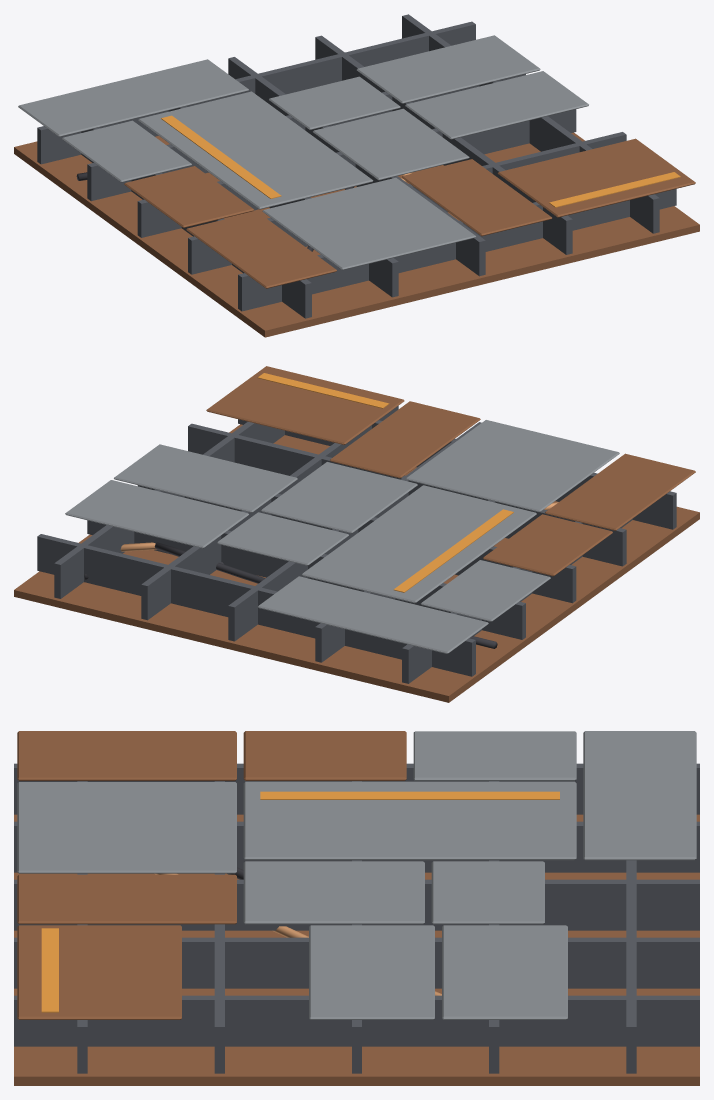
The model's file is floor_broken.glb.
3 renders of one model, top to bottom at view 1: azimuth 30°, elevation 25°; view 2: azimuth 150°, elevation 25°; view 3: azimuth 270°, elevation 25°, orthographic. The views are drawn at different scales.
Visible parts, largest first — view 1: floor_broken; view 2: floor_broken; view 3: floor_broken.
Part boxes in pixels (bbox=[...]): floor_broken: bbox=[14, 14, 699, 337]; floor_broken: bbox=[14, 366, 699, 702]; floor_broken: bbox=[14, 731, 699, 1085].
Size of the model in its own units: 4 by 0.4379 by 4.
